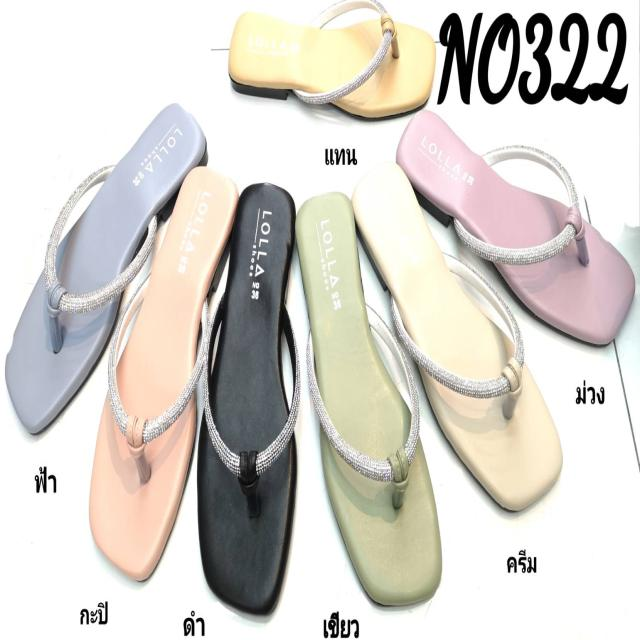black: (195, 177, 293, 617)
blue: (2, 99, 208, 429)
cream: (356, 164, 564, 512)
green: (296, 191, 436, 599)
kapi: (97, 170, 235, 574)
purple: (401, 108, 633, 345)
tan: (227, 13, 438, 122)
